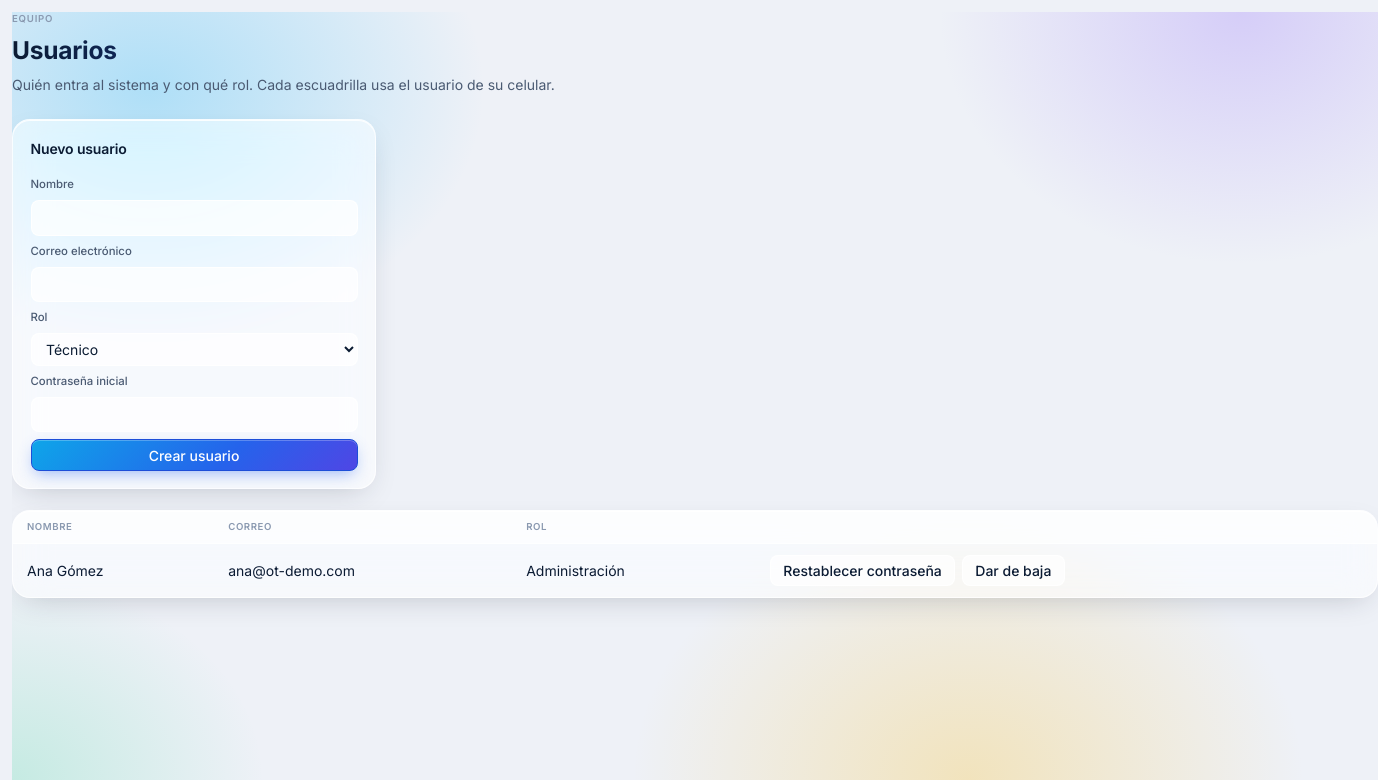
Test: UsersPage › sin confirmar no restablece nada
Click the button "Restablecer contraseña". click: (863, 571)
box: [770,555,955,586]
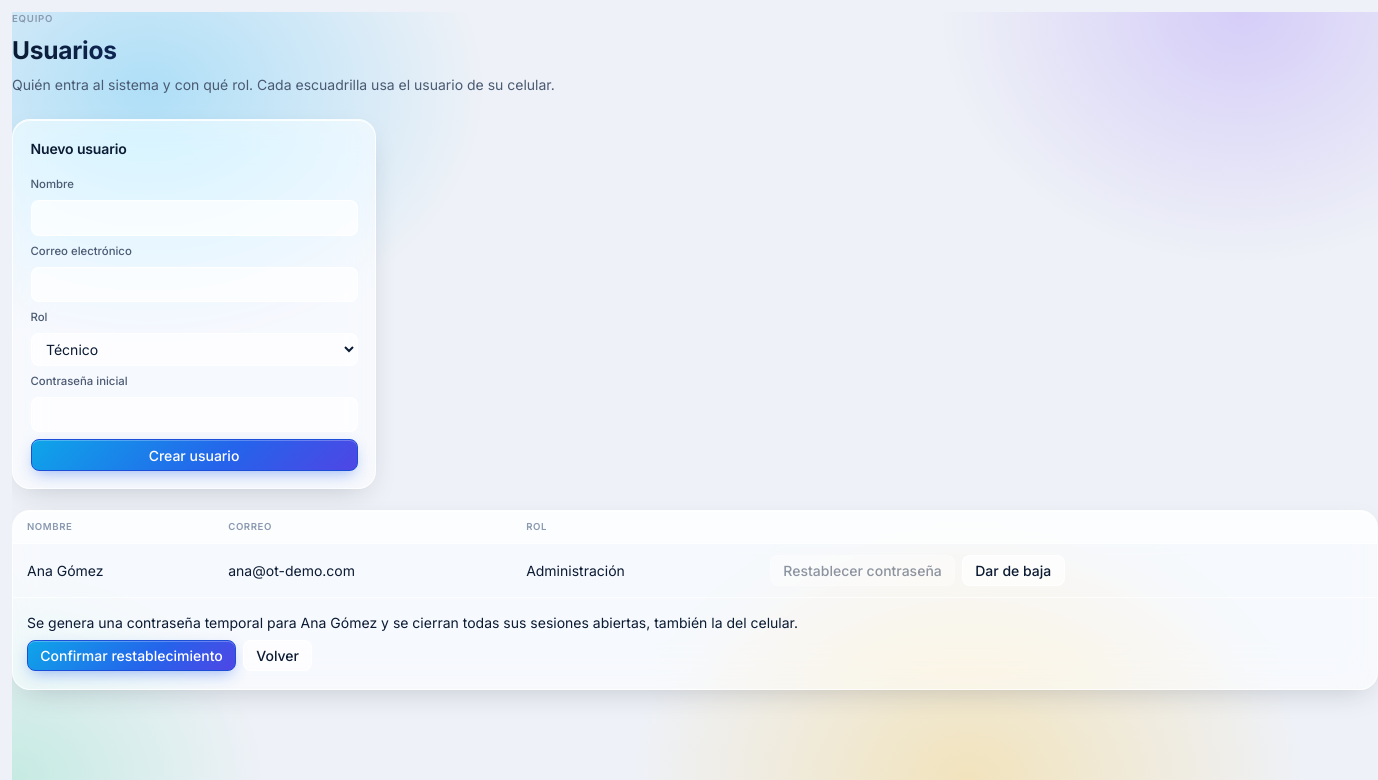
Click the button "Volver". click: (278, 656)
box: [243,640,312,671]
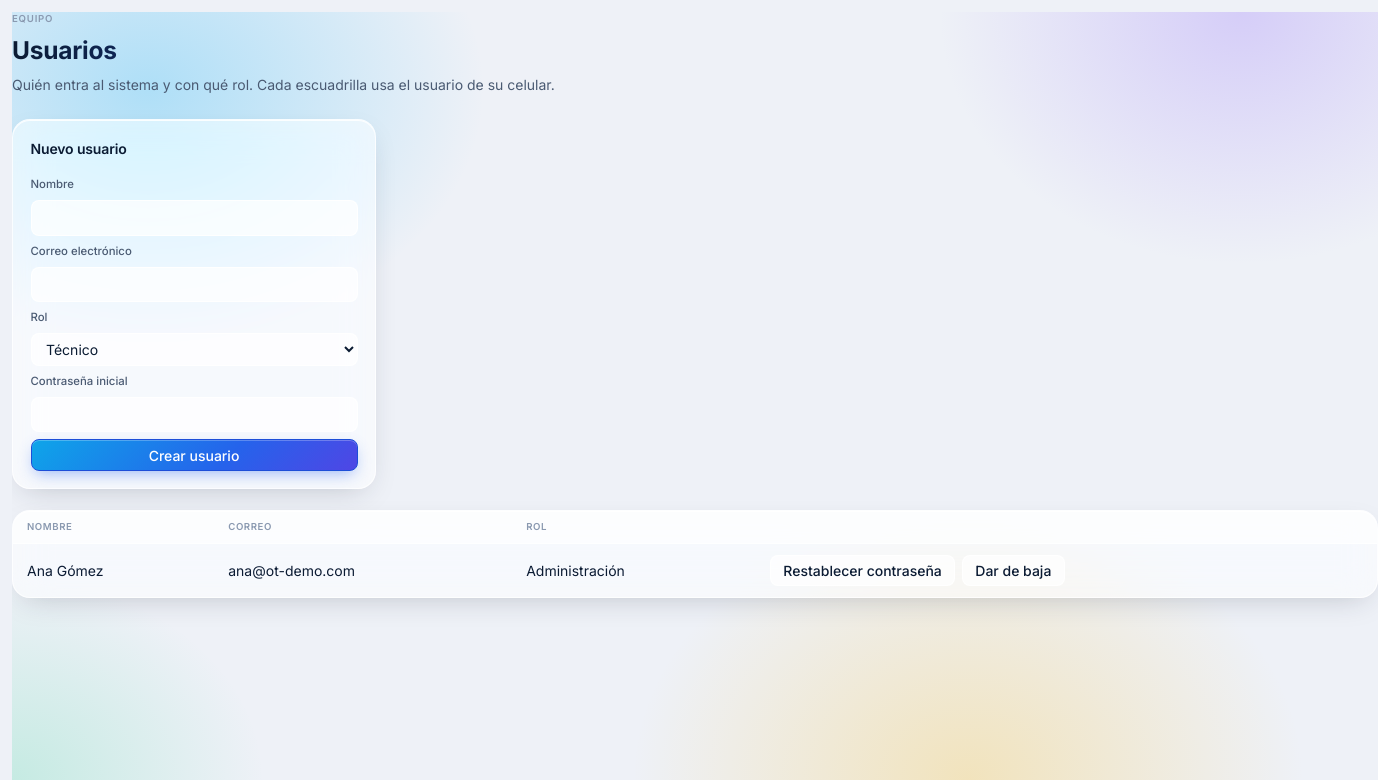
Check: the text "se cierran todas sus sesiones" is gone
